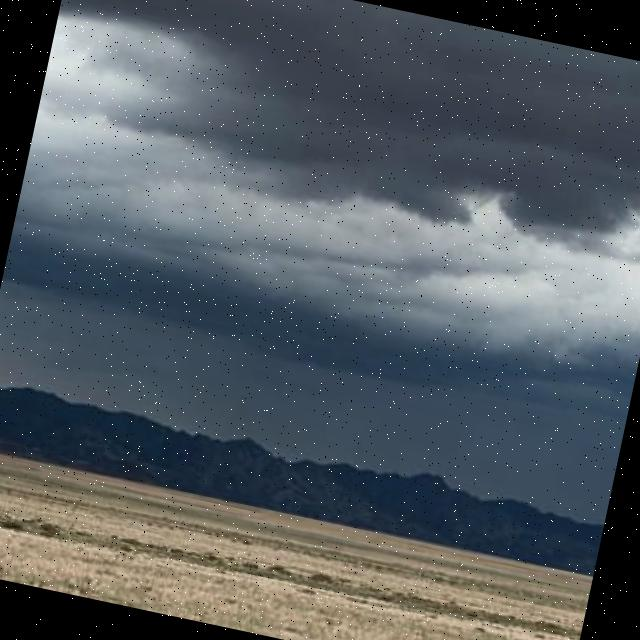Ns: (1, 1, 640, 426)
